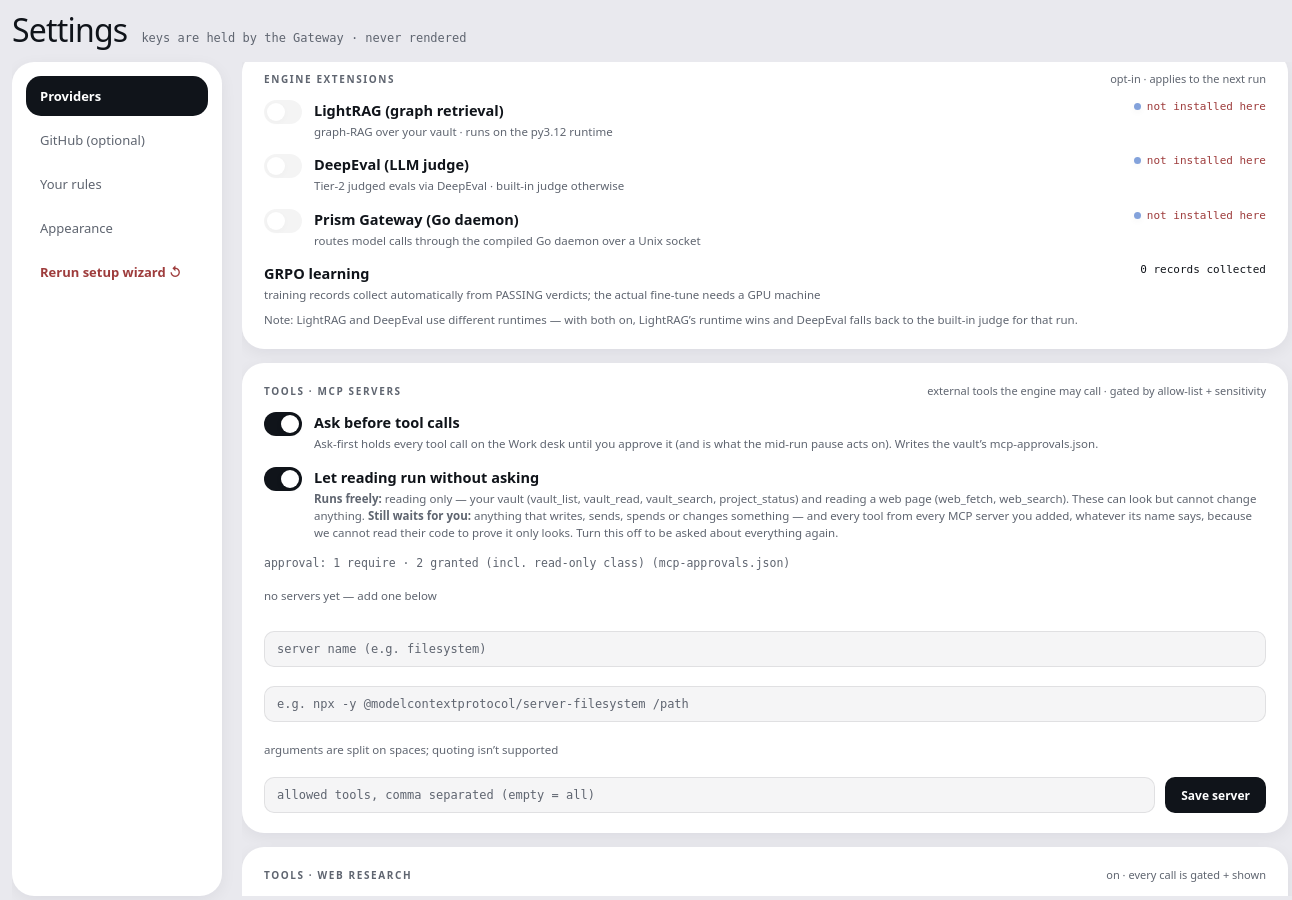
Test: Settings — what runs freely vs what waits › turning it OFF tightens back to hold-everything, and the choice STICKS
(page scrolled)
What coordinates should you click on to do the following:
click the switch named "let reading run without asking"
I would click on:
 (283, 479)
Its box is [264, 467, 302, 491].
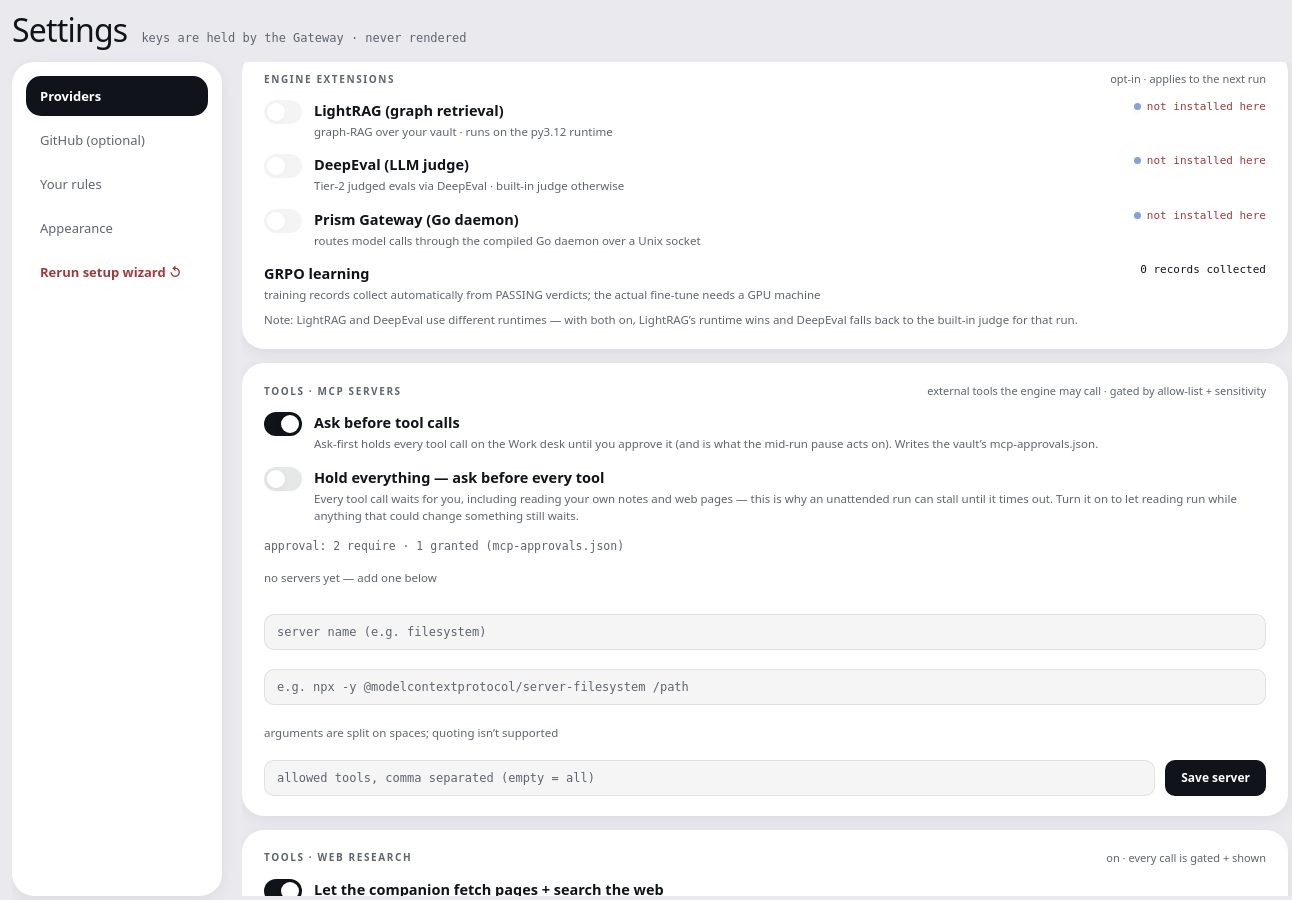
Result: the text "Hold everything — ask before every tool" is shown at [314, 467, 604, 487]
